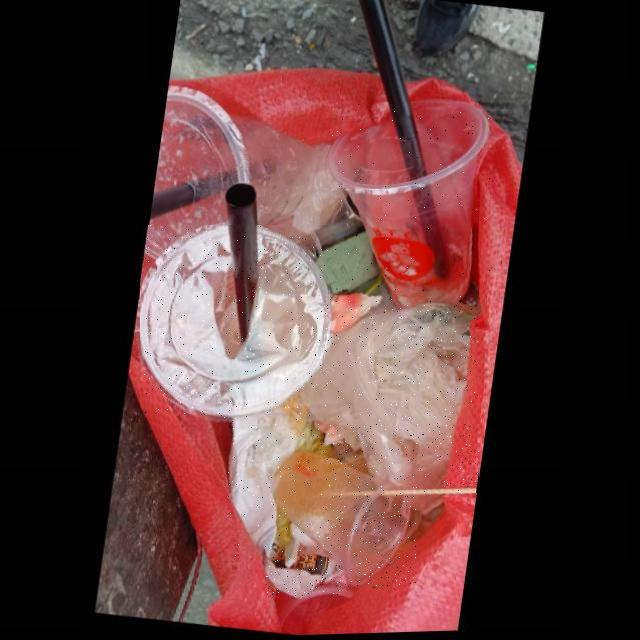plastic: (140, 226, 333, 418), (298, 299, 479, 493), (329, 102, 490, 311), (273, 452, 416, 588), (229, 393, 327, 556)
wrapper: (265, 518, 341, 596)
